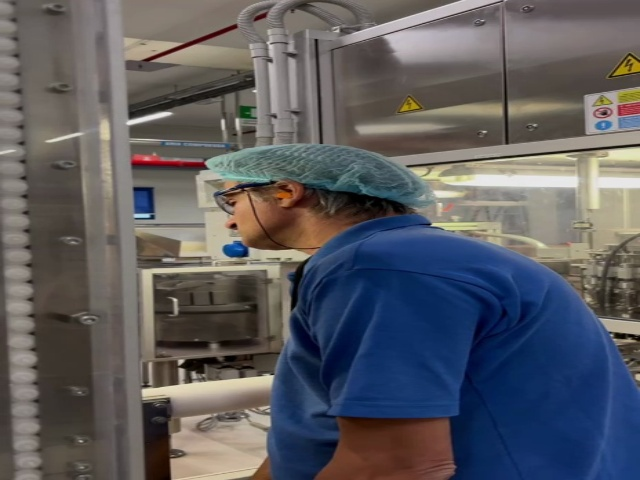Earplug: (276, 181, 303, 208)
Hairnet: (205, 143, 434, 204)
No_Helmet: (213, 143, 414, 179)
No_Vest: (270, 225, 620, 480)
Person: (209, 144, 640, 480)
Safety_Goggles: (211, 179, 277, 217)
